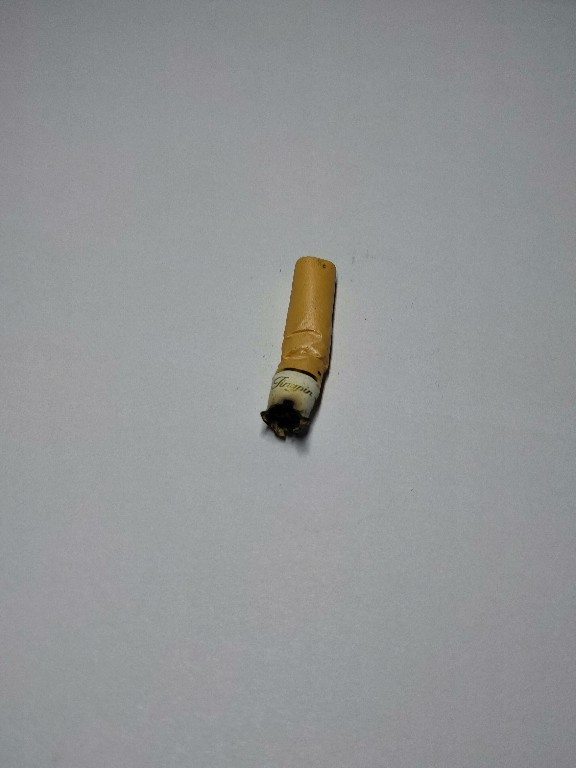cigarette: (257, 253, 342, 445)
